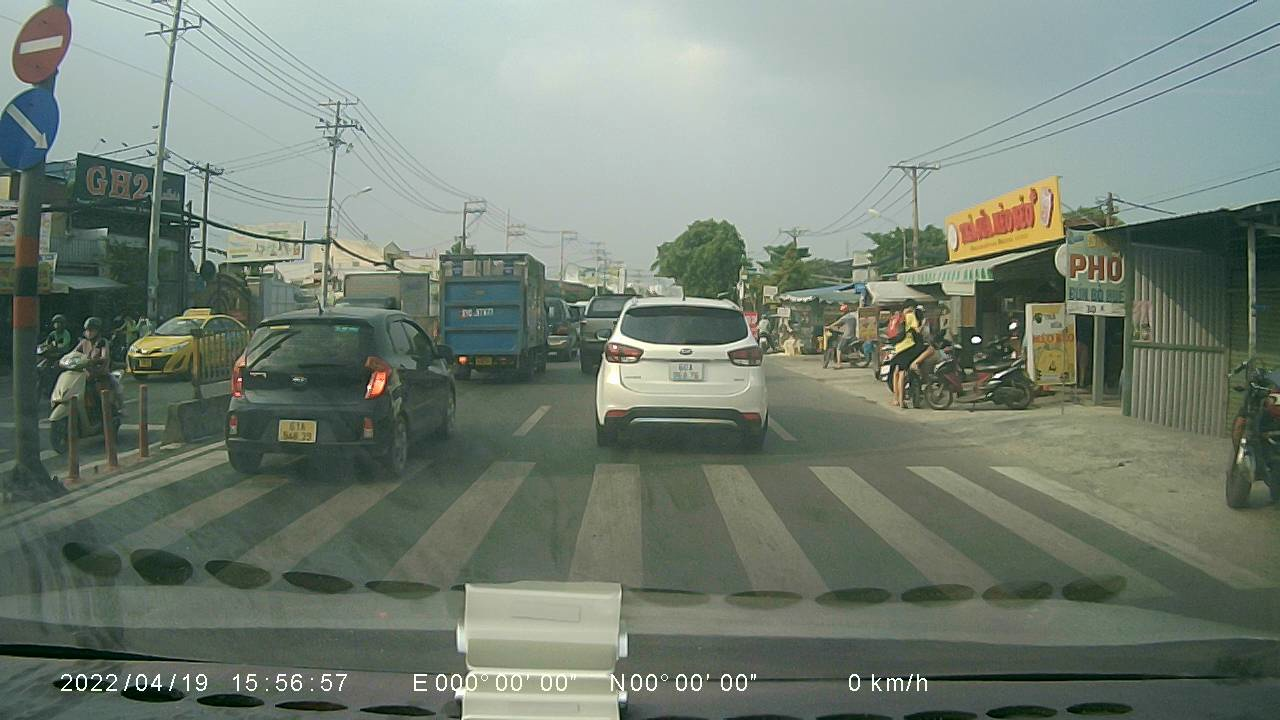Cam di nguoc chieu: (4, 1, 72, 83)
Huong di phai re phai: (1, 88, 58, 165)
